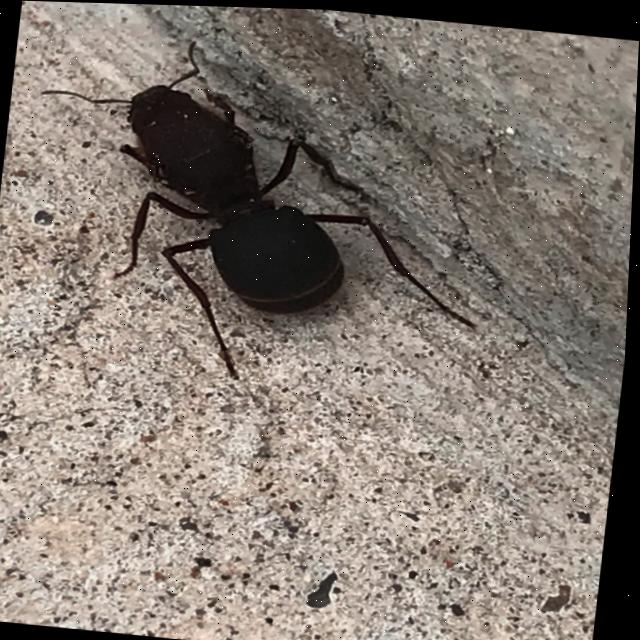Alive-Female-Dealate: (11, 24, 510, 402)
